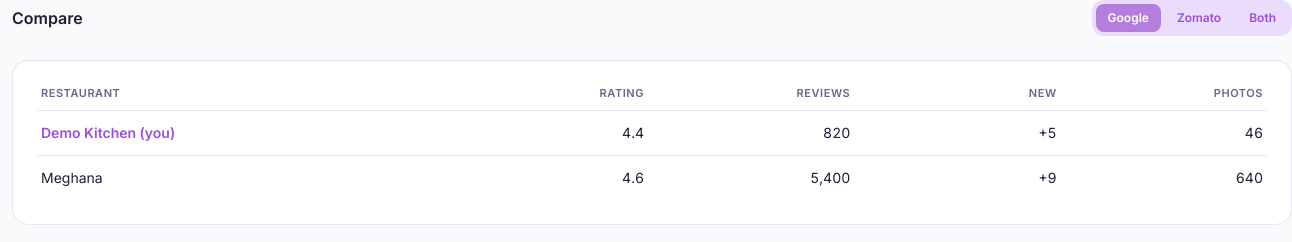
Test: CompareView › Both mode renders google and zomato side by side
Click the button "Both" at {"x": 1263, "y": 18}, box [1237, 4, 1288, 32]
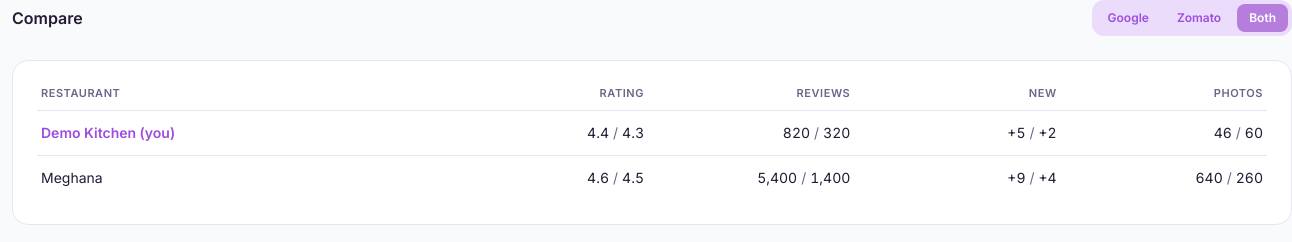
Result: the 1st text "/" is shown at [613, 124, 618, 140]
